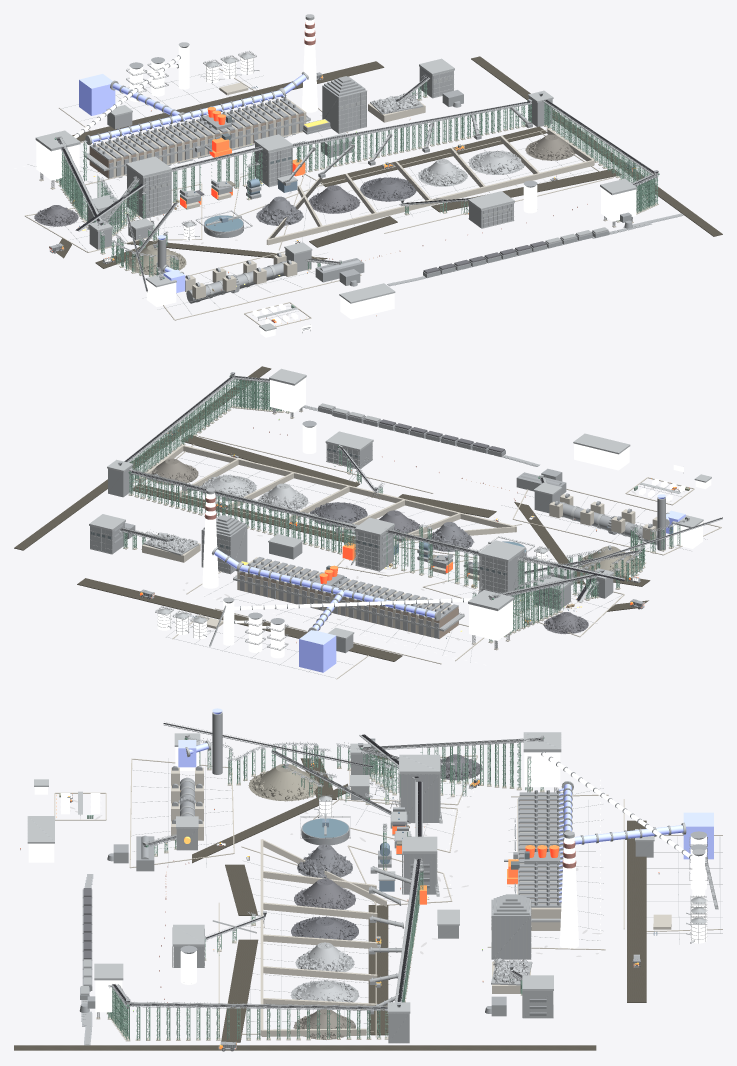
Rendered from coalmine.glb.
3 renders of one model, top to bottom at view 1: azimuth 30°, elevation 25°; view 2: azimuth 150°, elevation 25°; view 3: azimuth 270°, elevation 25°, orthographic. The views are drawn at different scales.
Visible parts, largest first — view 1: structure/concrete, structure/green, structure/steelD, structure/road, galv/galv, structure/clad, structure/roof, structure/white, structure/silo, structure/duct, structure/seam, structure/mat_404148_14 (+11 smaller); view 2: structure/green, structure/concrete, structure/steelD, structure/road, structure/clad, galv/galv, structure/roof, structure/white, structure/silo, structure/duct, structure/seam, structure/mat_a3aab0_29 (+9 smaller); view 3: structure/road, structure/concrete, structure/steelD, structure/green, galv/galv, structure/clad, structure/roof, structure/white, structure/duct, structure/silo, structure/seam, structure/mat_a3aab0_29 (+12 smaller).
Part boxes in pixels (bbox=[...]): structure/concrete: bbox=[24, 68, 658, 326]; structure/green: bbox=[54, 81, 659, 278]; structure/steelD: bbox=[56, 55, 658, 292]; structure/road: bbox=[56, 56, 722, 268]; galv/galv: bbox=[40, 14, 682, 320]; structure/clad: bbox=[87, 67, 552, 272]; structure/roof: bbox=[35, 58, 636, 331]; structure/white: bbox=[14, 19, 477, 337]; structure/silo: bbox=[36, 61, 636, 306]; structure/duct: bbox=[79, 74, 306, 292]; structure/seam: bbox=[28, 59, 599, 323]; structure/mat_404148_14: bbox=[34, 185, 546, 273]; structure/green: bbox=[123, 375, 685, 642]; structure/concrete: bbox=[123, 405, 721, 679]; structure/steelD: bbox=[118, 372, 722, 638]; structure/road: bbox=[14, 366, 650, 661]; structure/clad: bbox=[90, 442, 613, 653]; galv/galv: bbox=[90, 374, 722, 650]; structure/roof: bbox=[89, 368, 711, 639]; structure/white: bbox=[157, 443, 711, 665]; structure/silo: bbox=[248, 377, 702, 658]; structure/duct: bbox=[214, 494, 685, 672]; structure/seam: bbox=[90, 444, 707, 678]; structure/mat_a3aab0_29: bbox=[143, 403, 380, 555]; structure/road: bbox=[14, 751, 646, 1050]; structure/concrete: bbox=[54, 755, 722, 1041]; structure/steelD: bbox=[79, 725, 707, 1016]; structure/green: bbox=[107, 737, 544, 1040]; galv/galv: bbox=[80, 722, 718, 1044]; structure/clad: bbox=[174, 754, 653, 1043]; structure/roof: bbox=[27, 732, 654, 1013]; structure/white: bbox=[28, 752, 706, 1035]; structure/duct: bbox=[178, 708, 713, 902]; structure/silo: bbox=[95, 747, 706, 1012]; structure/seam: bbox=[80, 758, 722, 1036]; structure/mat_a3aab0_29: bbox=[80, 942, 532, 1008].
Size of the model in its own units: 482 by 90.06 by 471.
62 materials, 15 textured.
